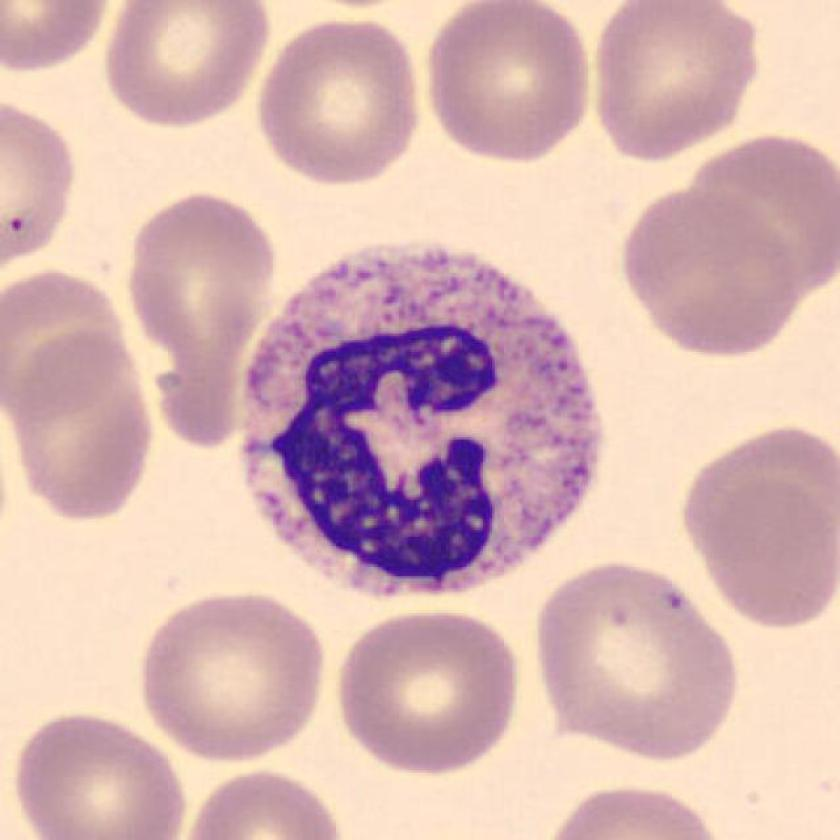neutrophil: (244, 241, 603, 594)
